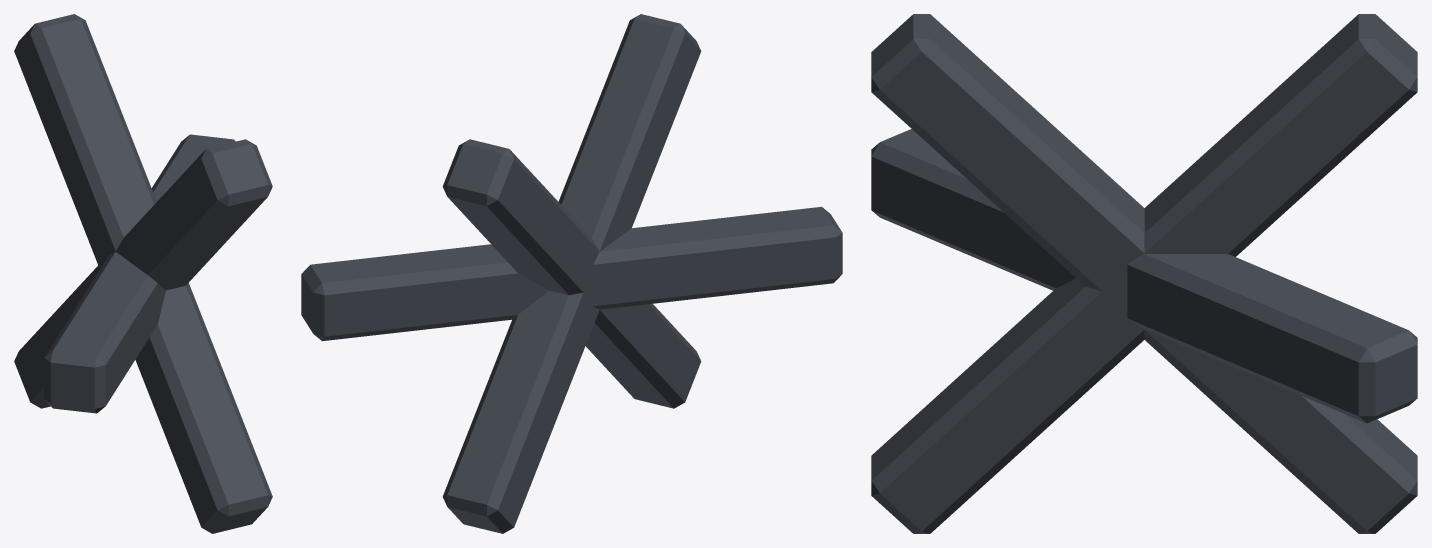
Rendered from TankTrap.fbx.
The picture shows the model from 3 angles, left to right: view 1: azimuth 30°, elevation 25°; view 2: azimuth 150°, elevation 25°; view 3: azimuth 270°, elevation 25°; orthographic projection. The views are drawn at different scales.
Visible parts, largest first — view 1: TankTrap; view 2: TankTrap; view 3: TankTrap.
Boxes of the visible parts, x1=… form: TankTrap: x1=14, y1=14, x2=272, y2=533; TankTrap: x1=301, y1=14, x2=842, y2=533; TankTrap: x1=871, y1=14, x2=1417, y2=533.
Bounding box in the file's own units: 2.3 × 2.3 × 2.3.
1 material, 1 textured.
